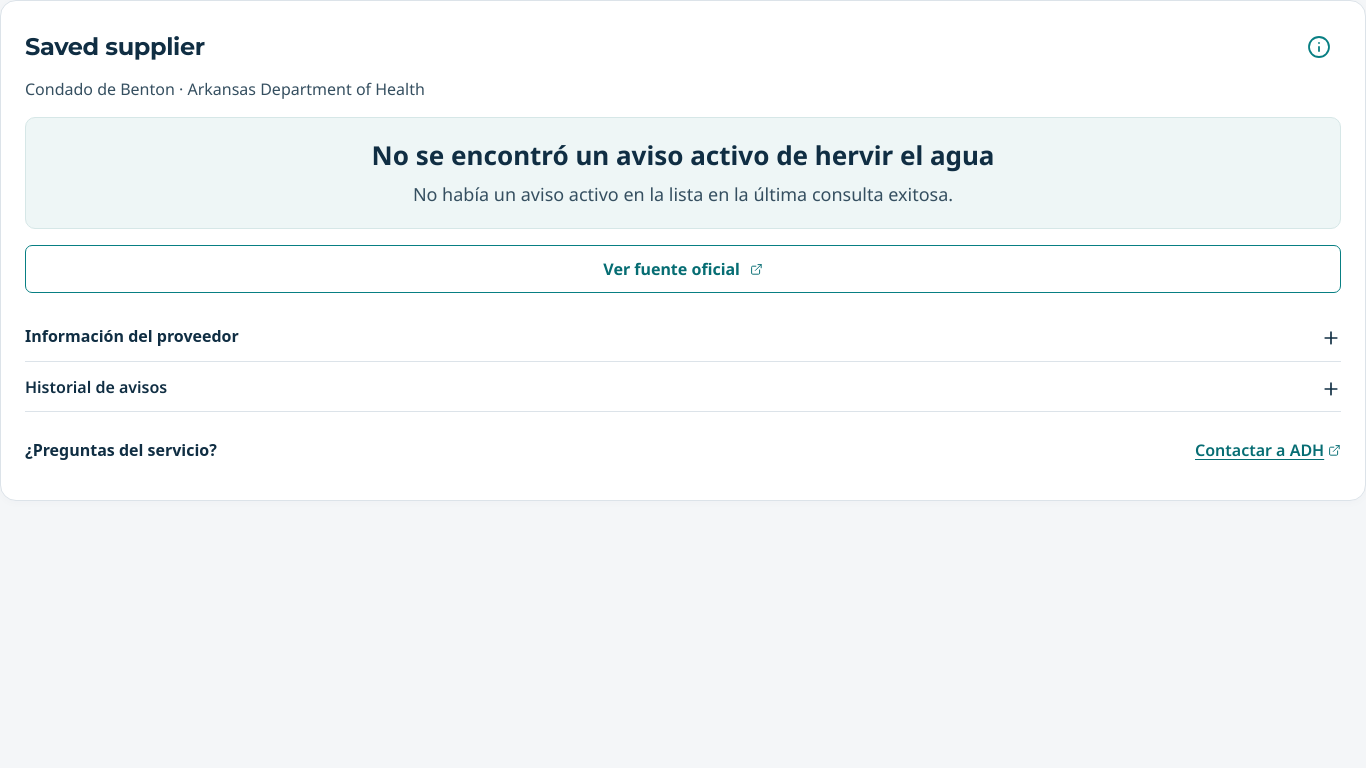
Test: shows the AI disclaimer in the supplier info dialog (es)
Click the button named "Acerca de este proveedor" at (1319, 47), box [1297,25,1341,69]
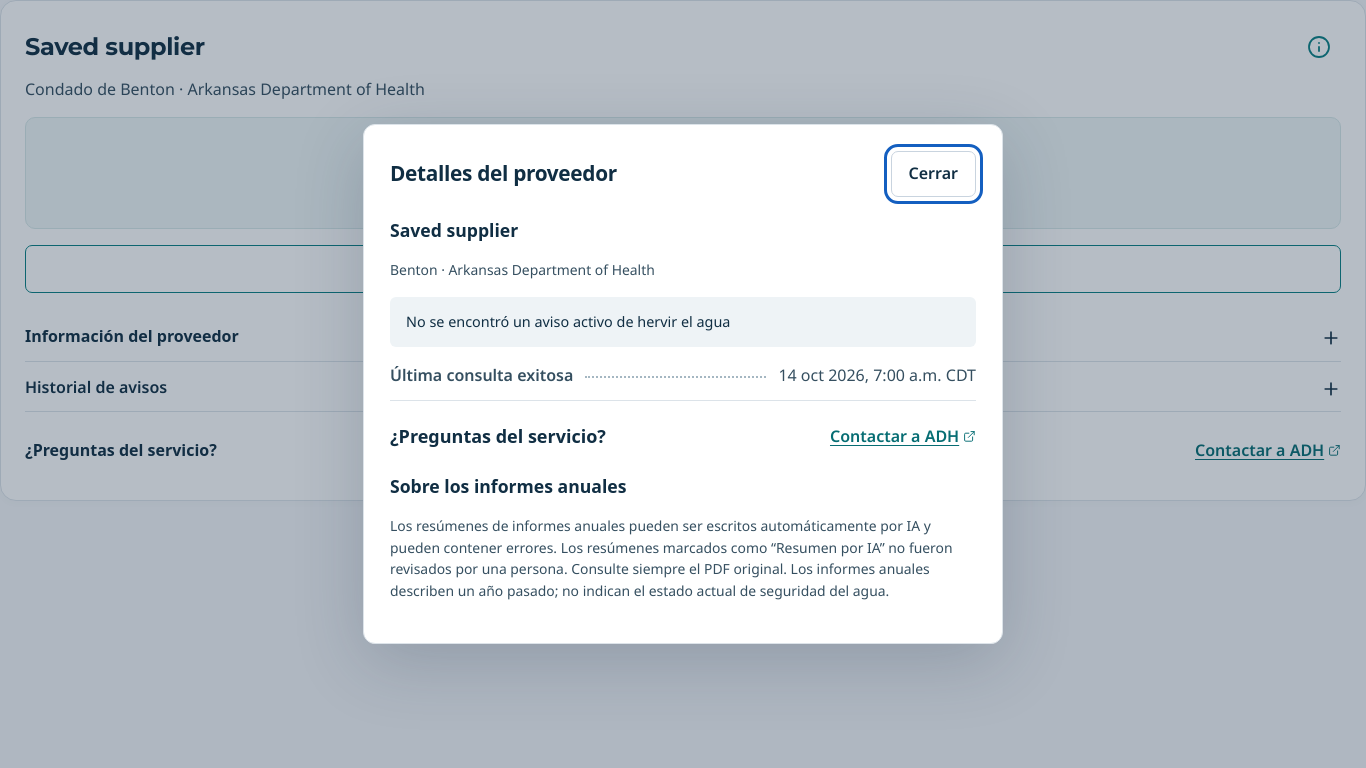
Expected: the heading "Sobre los informes anuales" is shown, [390,474,626,498]
Expected: the text "Los resúmenes de informes anuales pueden ser escritos automáticamente por IA y pueden contener errores. Los resúmenes ma" is shown, [390,516,953,600]
